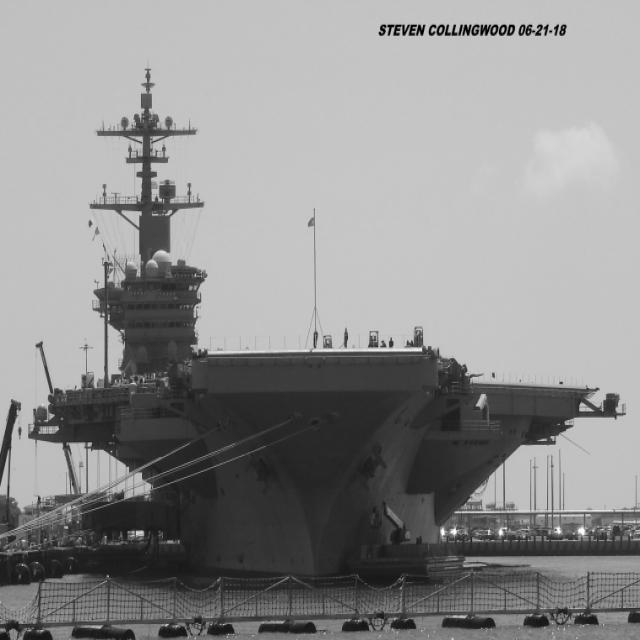Portanaves: (27, 28, 630, 597)
